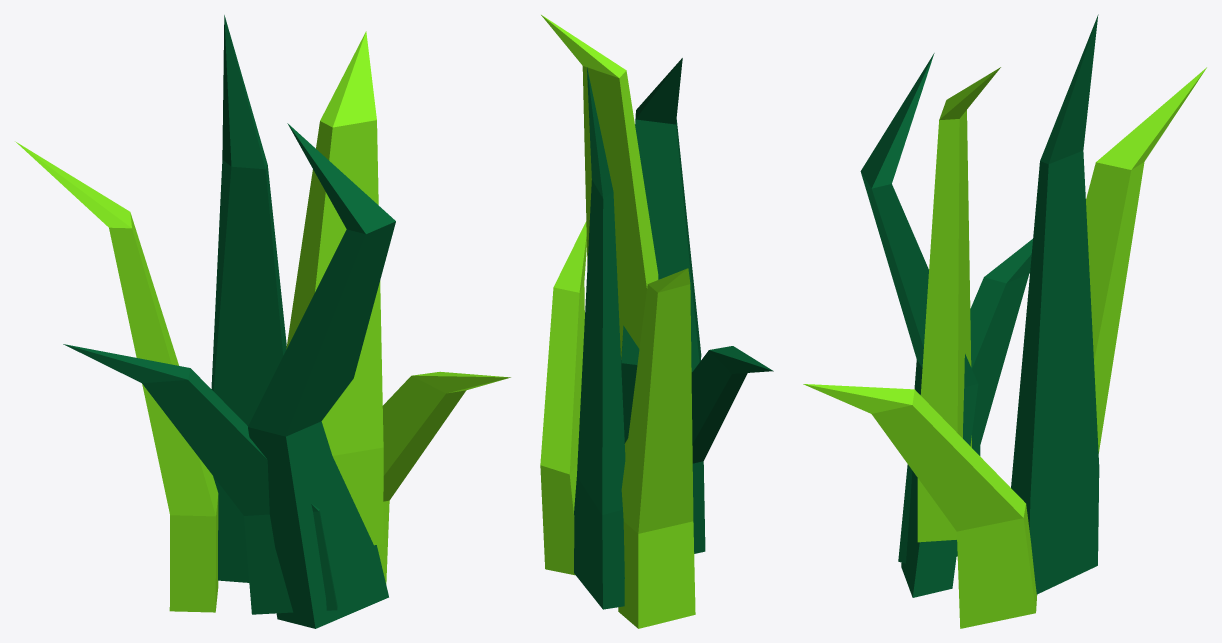
File: Gras2.obj
The picture shows the model from 3 angles, left to right: view 1: azimuth 30°, elevation 25°; view 2: azimuth 150°, elevation 25°; view 3: azimuth 270°, elevation 25°; orthographic projection. The views are drawn at different scales.
Parts seen in each view (by area): view 1: Grass_3.001_Cube.007_dunkelgrün, Grass_3.001_Cube.007_grün, Grass_3.001_Cube.007_grün.001; view 2: Grass_3.001_Cube.007_dunkelgrün, Grass_3.001_Cube.007_grün, Grass_3.001_Cube.007_grün.001; view 3: Grass_3.001_Cube.007_dunkelgrün, Grass_3.001_Cube.007_grün, Grass_3.001_Cube.007_grün.001.
Part boxes in pixels (x1,y1,x2,y2): Grass_3.001_Cube.007_dunkelgrün: (63, 15, 395, 628); Grass_3.001_Cube.007_grün: (286, 31, 510, 583); Grass_3.001_Cube.007_grün.001: (15, 141, 218, 612); Grass_3.001_Cube.007_dunkelgrün: (574, 58, 773, 609); Grass_3.001_Cube.007_grün: (540, 15, 658, 575); Grass_3.001_Cube.007_grün.001: (618, 268, 695, 628); Grass_3.001_Cube.007_dunkelgrün: (860, 14, 1099, 597); Grass_3.001_Cube.007_grün: (803, 67, 1037, 628); Grass_3.001_Cube.007_grün.001: (1086, 67, 1206, 453).
Bounding box in the file's own units: 0.2999 × 0.5031 × 0.3236.
Materials: 4 (4 with a texture image).
